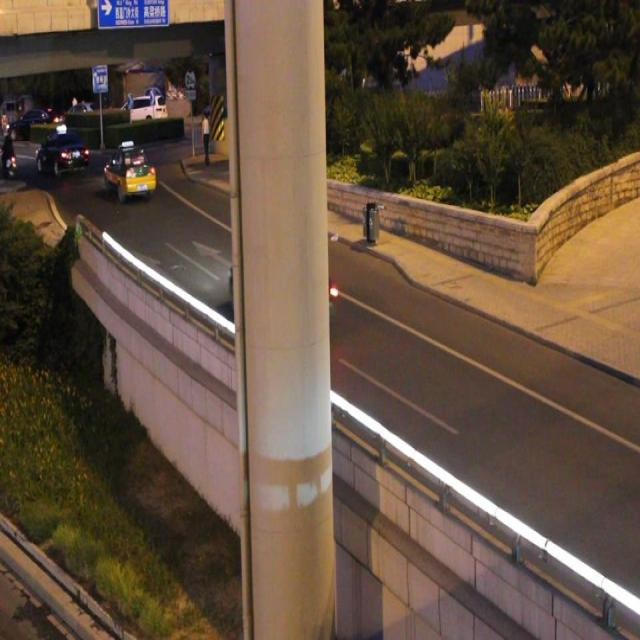car: (232, 247, 318, 325), (104, 148, 156, 196), (36, 135, 88, 177)
